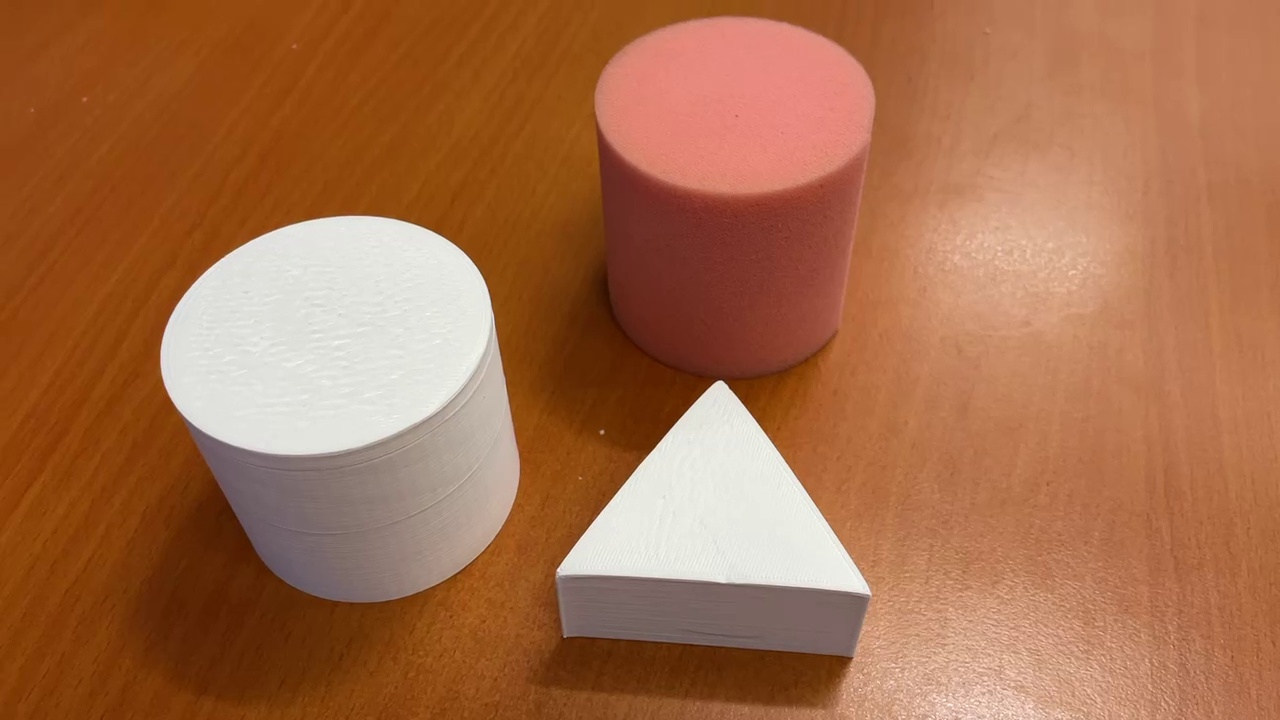Cylinder: (159, 206, 531, 614), (582, 12, 884, 383)
Triangle_short: (545, 377, 877, 667)
